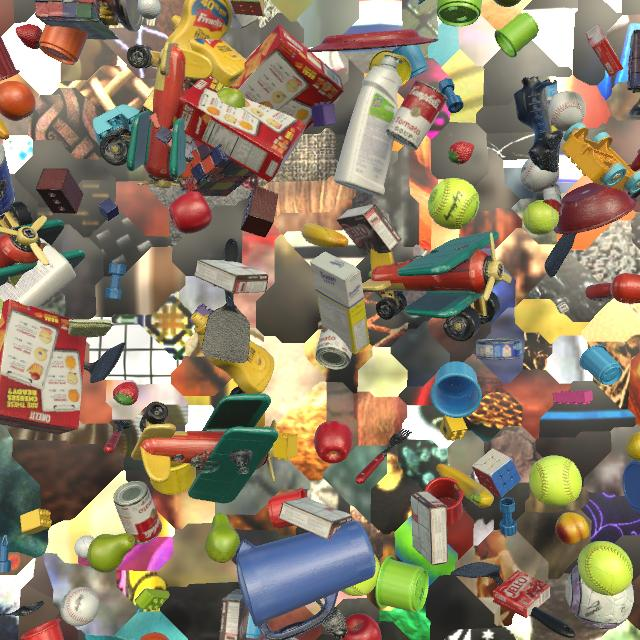ycb_002_master_chef_can: (0, 141, 15, 217)
ycb_003_cracker_box: (171, 75, 306, 182), (232, 24, 344, 131), (0, 299, 86, 435)
ycb_004_sugar_box: (310, 251, 370, 355), (228, 0, 258, 29)
ycb_005_tomato_soup_can: (386, 80, 447, 151), (113, 481, 162, 544), (315, 327, 352, 370)
ycb_006_mustard_bottle: (191, 312, 274, 394), (171, 15, 247, 87), (166, 0, 232, 50)
ycb_007_tuna_fish_can: (476, 338, 523, 360)
ycb_008_pudding_box: (337, 204, 402, 255), (278, 497, 352, 540), (411, 491, 448, 565), (194, 260, 268, 294), (219, 589, 249, 640)
ycb_009_gelatin_box: (493, 570, 550, 618), (586, 25, 624, 77)
ycb_010_potted_meat_can: (7, 242, 49, 288)
ycb_011_banana: (436, 464, 494, 508), (301, 223, 349, 248), (0, 119, 9, 140)
ycb_012_strawberry: (15, 24, 43, 49), (113, 382, 139, 406), (448, 141, 474, 165)
ycb_013_apple: (169, 191, 212, 234), (314, 421, 353, 463), (341, 613, 382, 640)
ycb_014_lemon: (626, 432, 640, 461)
ycb_015_peach: (555, 512, 589, 545)
ycb_016_pear: (87, 533, 135, 573), (205, 513, 240, 563), (217, 88, 246, 108), (494, 0, 521, 7)
ycb_017_orange: (0, 81, 36, 121), (140, 632, 169, 640)
